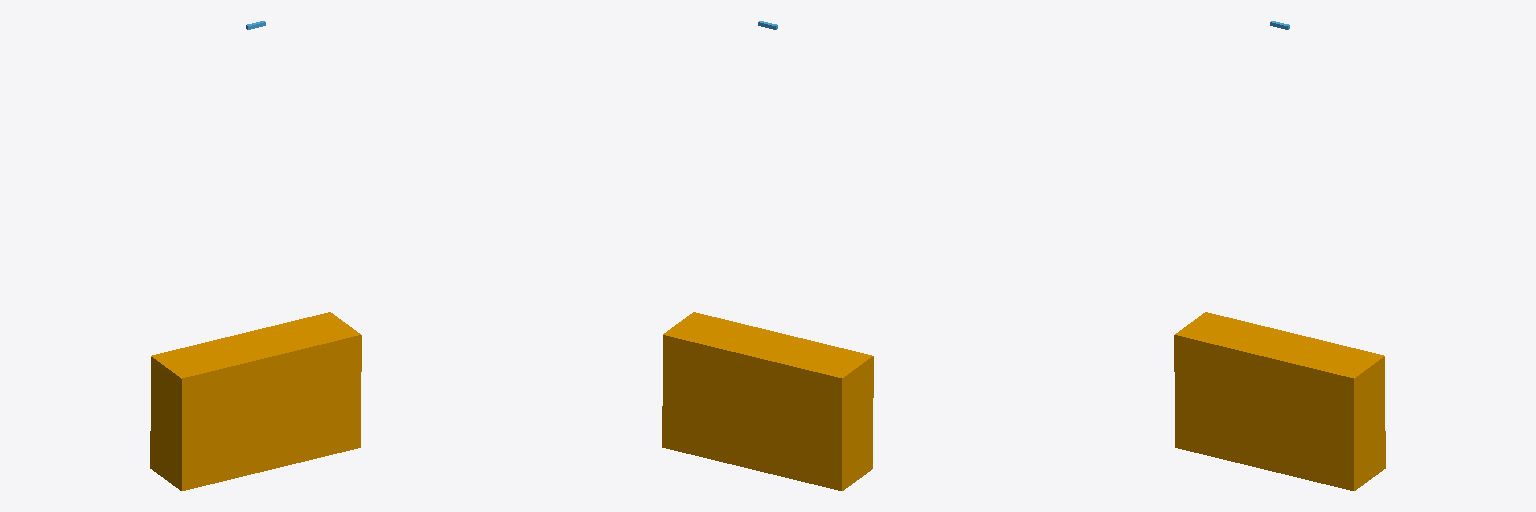
robot.urdf — differential_drive_robot:
<robot name="differential_drive_robot">

<link name="body_link">
	<visual>
		<geometry>
			<box size="1 0.6 0.3"/>
		</geometry>
	<origin rpy="-1.57 0 0" xyz="0 0 0"/>
	</visual>
</link>

<joint name="camera" type="fixed" >
	<parent link="body_link"/>
	<child  link="camera" />
	<origin rpy="0 0 0" xyz="0 0 1"/>
</joint> 

<link name="camera">
	<visual>
		<origin rpy="0 0 0" xyz="0 0 1"/>
		<geometry>
			<box size="0.1 0.02 0.02" />
		</geometry>
	</visual>


</link>
</robot>

--- Render facts (derived) ---
Views: 3 orthographic renders of the robot side by side, from view 1: azimuth 30°, elevation 25°; view 2: azimuth 150°, elevation 25°; view 3: azimuth 330°, elevation 25°.
Model differential_drive_robot with 2 links and 1 joints (1 fixed), rooted at body_link, posed all joints at 0.
Links seen in each view (by area): view 1: body_link; view 2: body_link; view 3: body_link.
Boxes of the visible links, <box> form: body_link: <box>150,312,361,490</box>; body_link: <box>662,312,873,490</box>; body_link: <box>1174,312,1385,490</box>.
Bounding box of the posed robot: 1 × 0.3005 × 2.31 m (x, y, z).
Geometry: primitives only (box / cylinder / sphere), no mesh files.